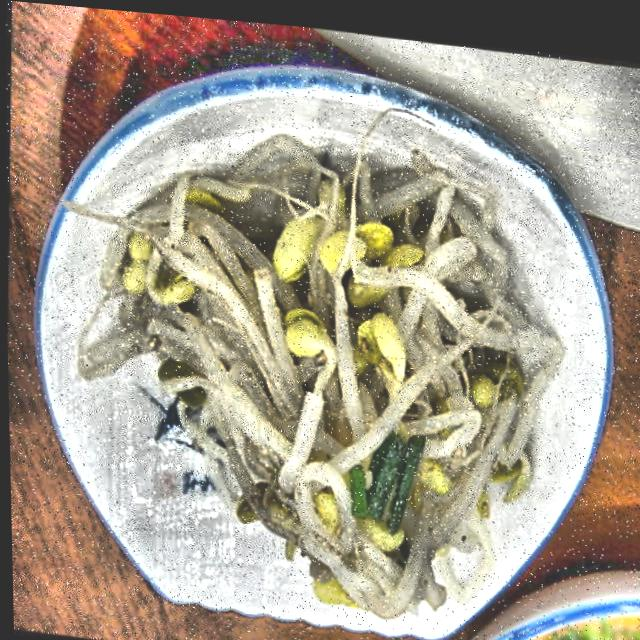Food: (150, 148, 510, 575)
